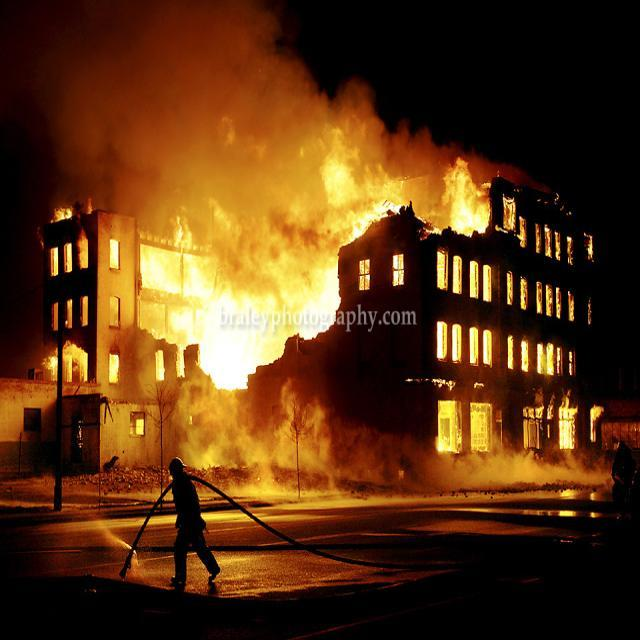Fire: (444, 181, 596, 364), (154, 255, 348, 388), (44, 215, 98, 377), (321, 145, 406, 244), (430, 156, 489, 234), (436, 405, 461, 455), (471, 409, 489, 449), (560, 412, 572, 452)
Smoke: (58, 12, 427, 212), (189, 392, 351, 478), (405, 444, 602, 488)
